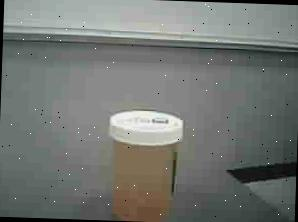Bottle B: (88, 100, 187, 222)
